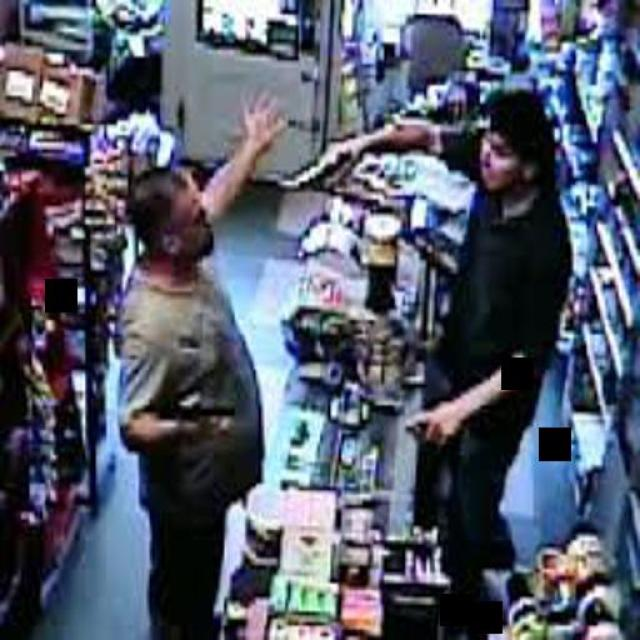gun: (282, 140, 348, 201)
